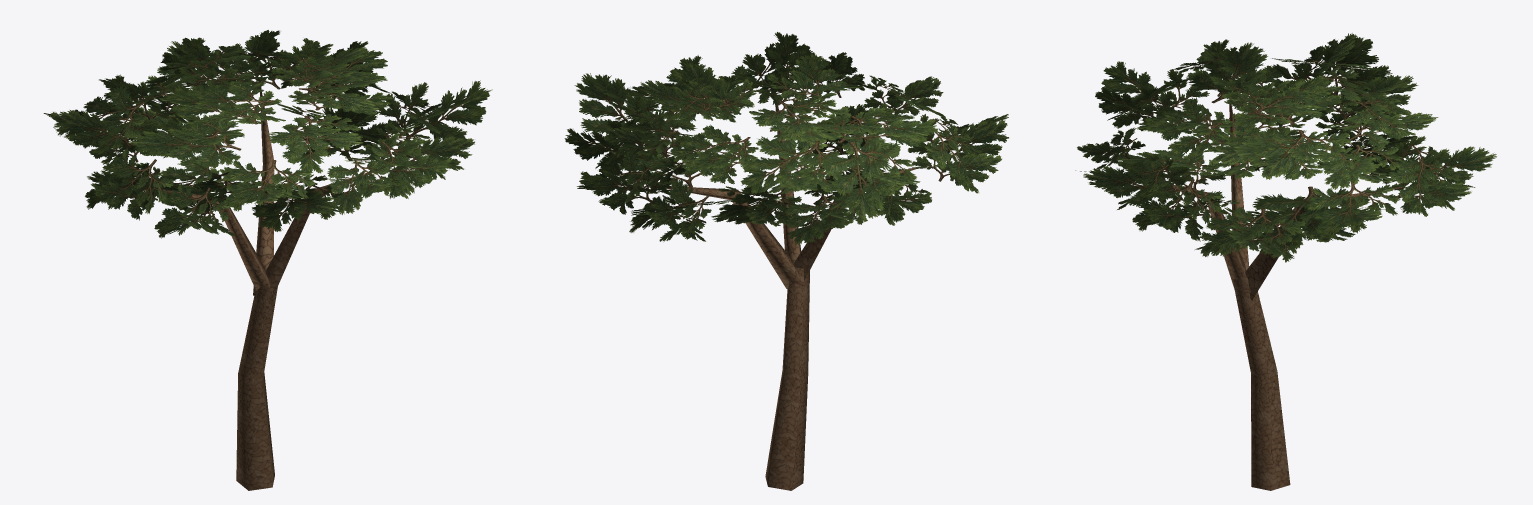
File: stone-pine.glb
3 views of the same model, side by side, from view 1: azimuth 30°, elevation 25°; view 2: azimuth 150°, elevation 25°; view 3: azimuth 270°, elevation 25° (orthographic).
Parts seen in each view (by area): view 1: stone_pine_foliage, stone_pine_wood; view 2: stone_pine_foliage, stone_pine_wood; view 3: stone_pine_foliage, stone_pine_wood.
Part boxes in pixels (x1,y1,x2,y2): stone_pine_foliage: (43,30,492,238); stone_pine_wood: (151,82,373,490); stone_pine_foliage: (564,32,1008,244); stone_pine_wood: (648,105,929,490); stone_pine_foliage: (1075,33,1496,262); stone_pine_wood: (1171,99,1405,490).
Bounding box in the file's own units: 9.11 × 7.78 × 8.23.
Materials: 2 (2 with a texture image).
